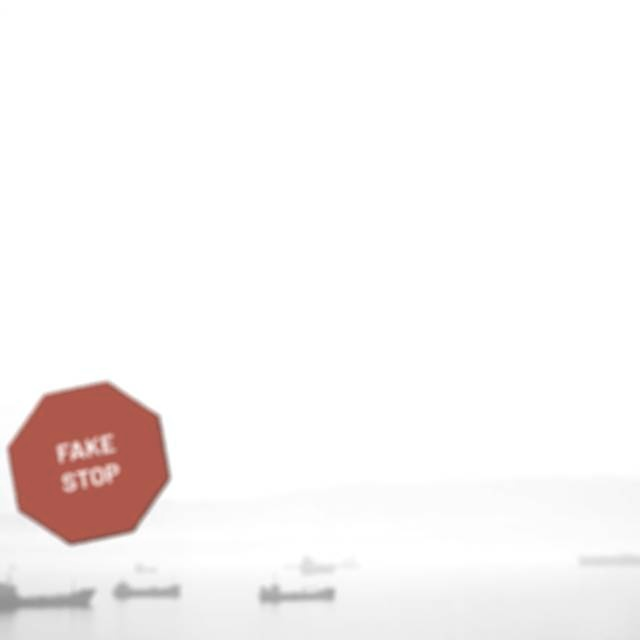FAKE_STOP: (7, 381, 170, 545)
